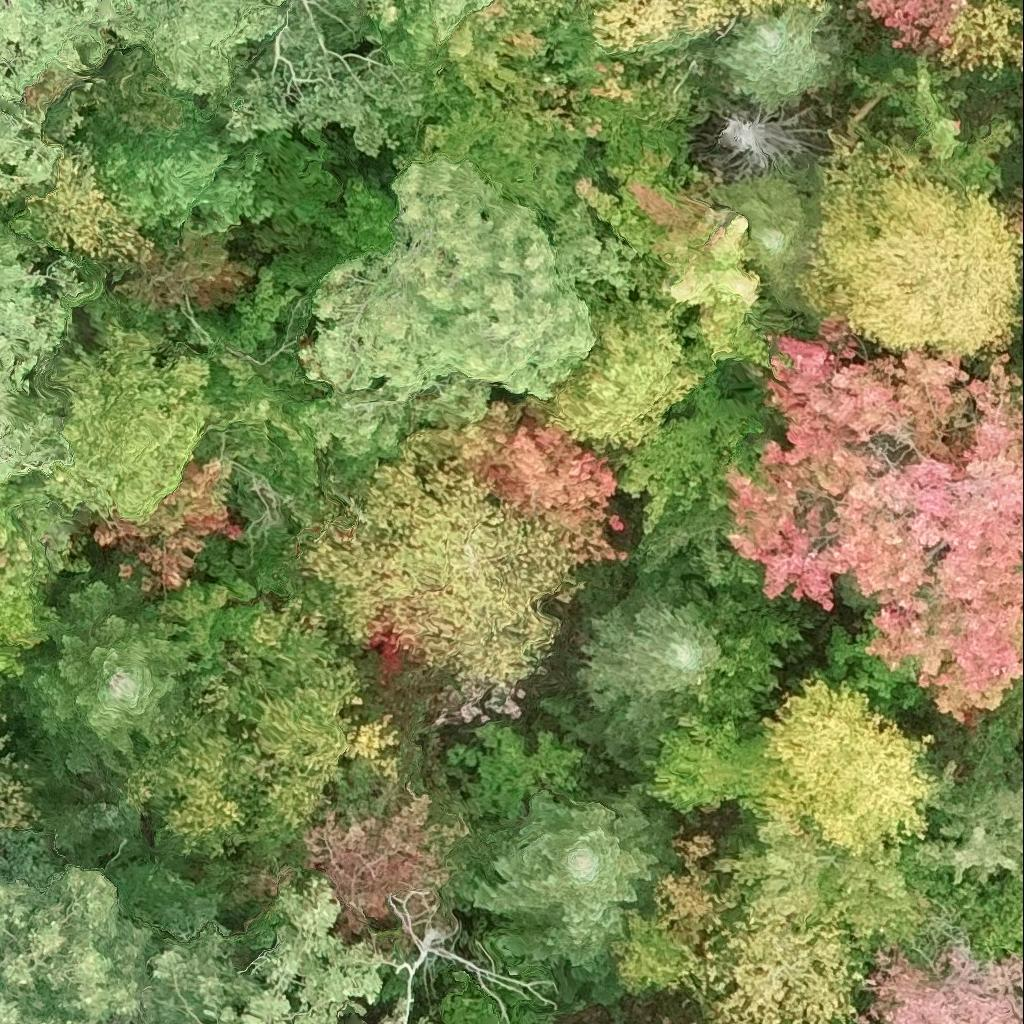crown: (725, 320, 1023, 719), (299, 154, 635, 452), (299, 417, 579, 723), (421, 0, 708, 204), (149, 587, 361, 840), (0, 828, 265, 1023), (798, 135, 1023, 363), (151, 0, 419, 158), (21, 577, 194, 780), (762, 675, 941, 864), (47, 325, 218, 521), (475, 793, 657, 972), (0, 0, 161, 189), (714, 813, 935, 949), (848, 52, 1021, 200), (545, 289, 702, 448), (221, 875, 385, 1023), (302, 784, 466, 931), (127, 675, 263, 851), (684, 897, 864, 1023), (488, 424, 629, 567), (0, 246, 84, 482), (613, 830, 740, 986), (580, 600, 722, 728), (711, 167, 829, 310), (898, 760, 1023, 891), (0, 478, 69, 677), (858, 940, 1023, 1023), (580, 0, 825, 55), (713, 5, 840, 111), (940, 0, 1023, 80), (868, 0, 971, 58), (718, 107, 803, 173), (433, 0, 492, 34), (384, 996, 431, 1023), (1006, 186, 1023, 250), (487, 0, 555, 15)
